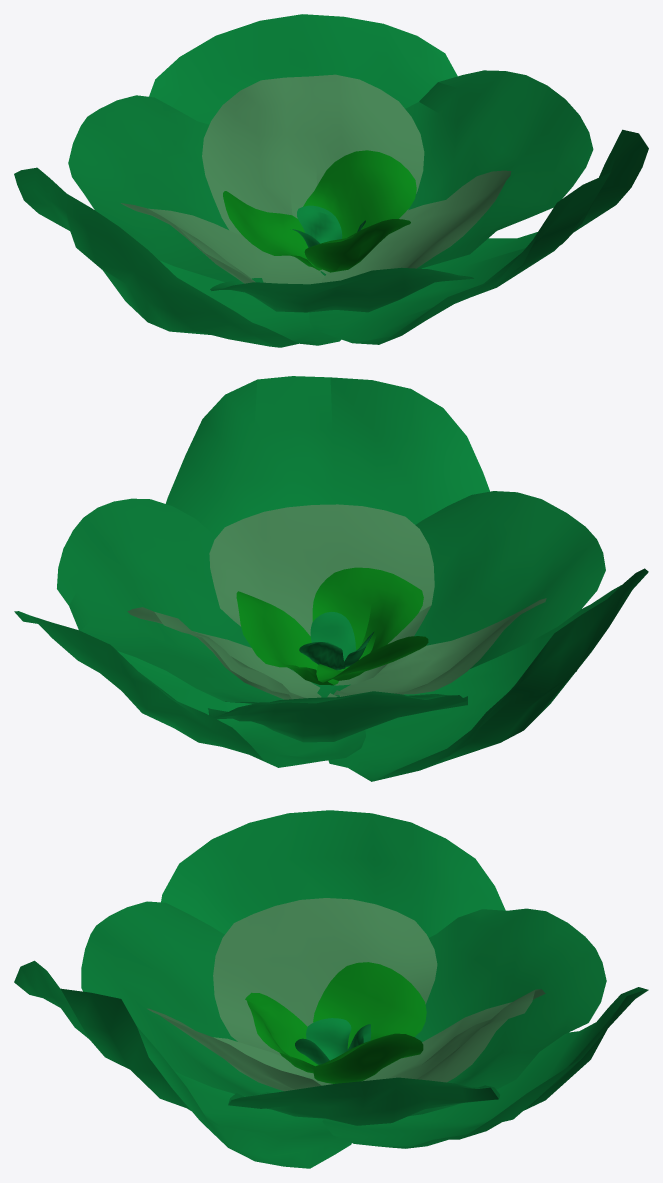
Rendered from lechuga.fbx.
The picture shows the model from 3 angles, top to bottom: view 1: azimuth 30°, elevation 25°; view 2: azimuth 150°, elevation 25°; view 3: azimuth 270°, elevation 25°; orthographic projection.
Visible parts, largest first — view 1: Lechuga; view 2: Lechuga; view 3: Lechuga.
Part boxes in pixels (x1,y1,x2,y2): Lechuga: (14,14,648,347); Lechuga: (14,376,648,781); Lechuga: (14,810,648,1168).
Size of the model in its own units: 258 by 102 by 284.
